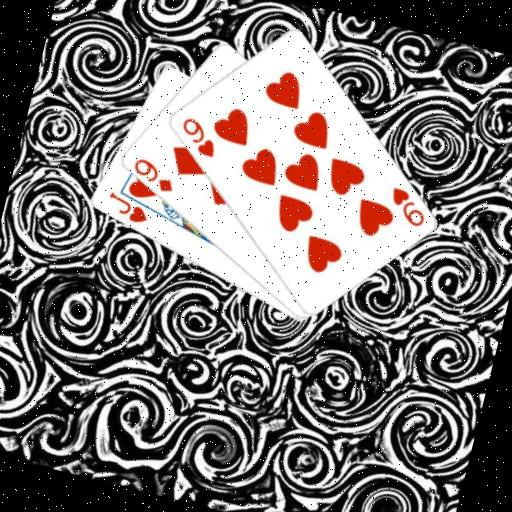9D: (126, 153, 180, 196)
9H: (382, 183, 433, 231), (173, 113, 223, 161)
JH: (101, 189, 153, 228)
